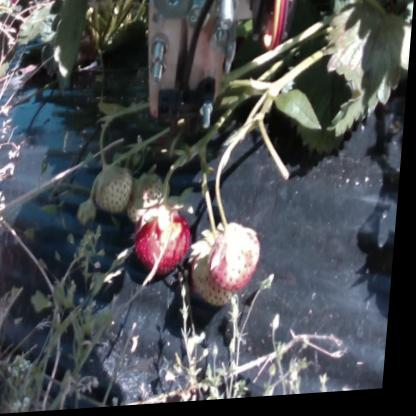ripe: (140, 215, 195, 274)
unripe: (196, 244, 256, 306), (130, 175, 172, 221), (97, 172, 134, 216)
